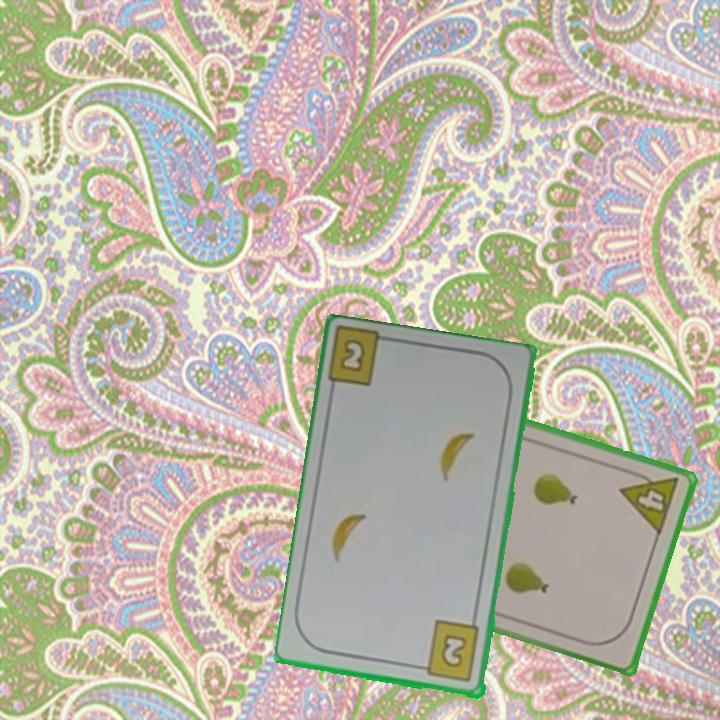2b: (414, 618, 483, 685), (337, 335, 369, 376)
4p: (616, 465, 683, 538)
